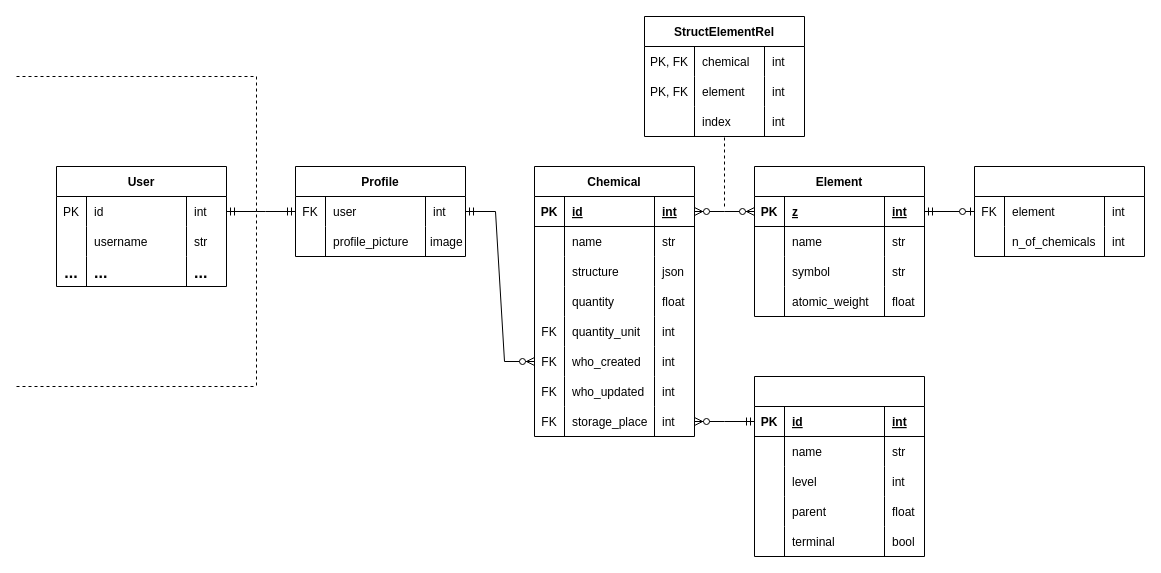
Image size: 1161x573. Some labels were removed from this diagram. Here are the shapes that lost their labels. From the top down, the box of each, then its label:
(974, 166, 1144, 256): ElementAbundance
(754, 376, 924, 556): StoragePlace
